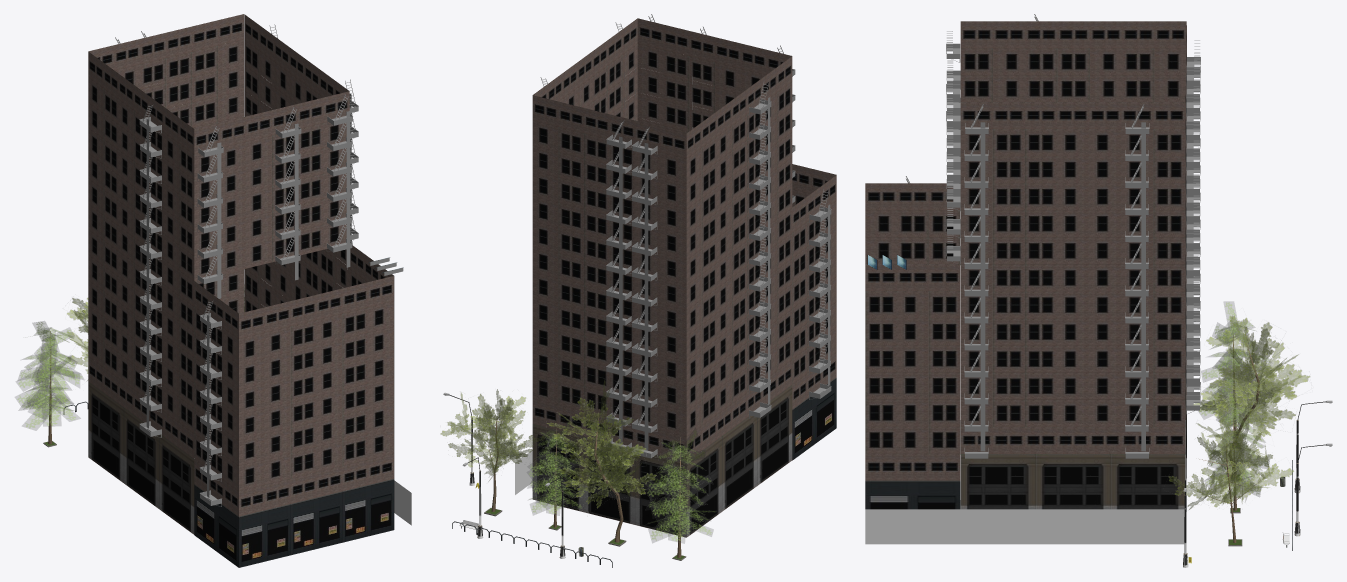
File: nycity_07.gltf
The picture shows the model from 3 angles, left to right: view 1: azimuth 30°, elevation 25°; view 2: azimuth 150°, elevation 25°; view 3: azimuth 270°, elevation 25°; orthographic projection. The views are drawn at different scales.
Visible parts, largest first — view 1: nycity_07; view 2: nycity_07; view 3: nycity_07.
Part boxes in pixels (<box>): nycity_07: <box>15,14,411,567</box>; nycity_07: <box>440,14,836,567</box>; nycity_07: <box>865,14,1332,567</box>.
Size of the model in its own units: 36.06 by 48.18 by 46.93.
Materials: 14 (11 with a texture image).
